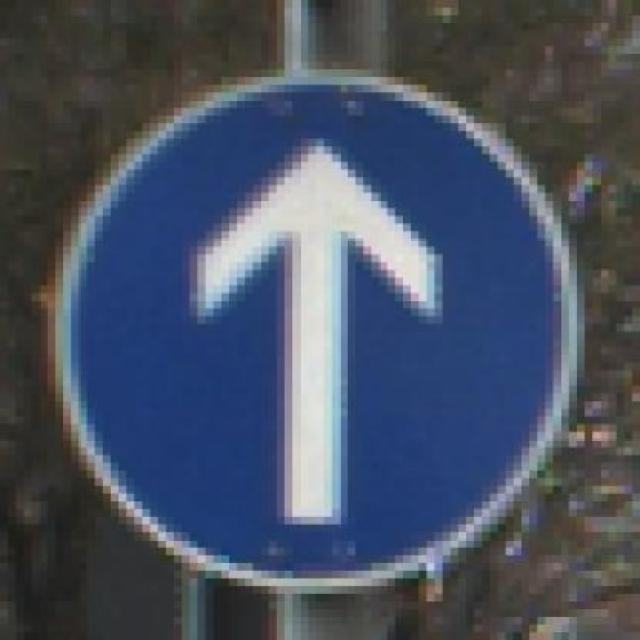Straight Ahead Only: (39, 62, 593, 609)
